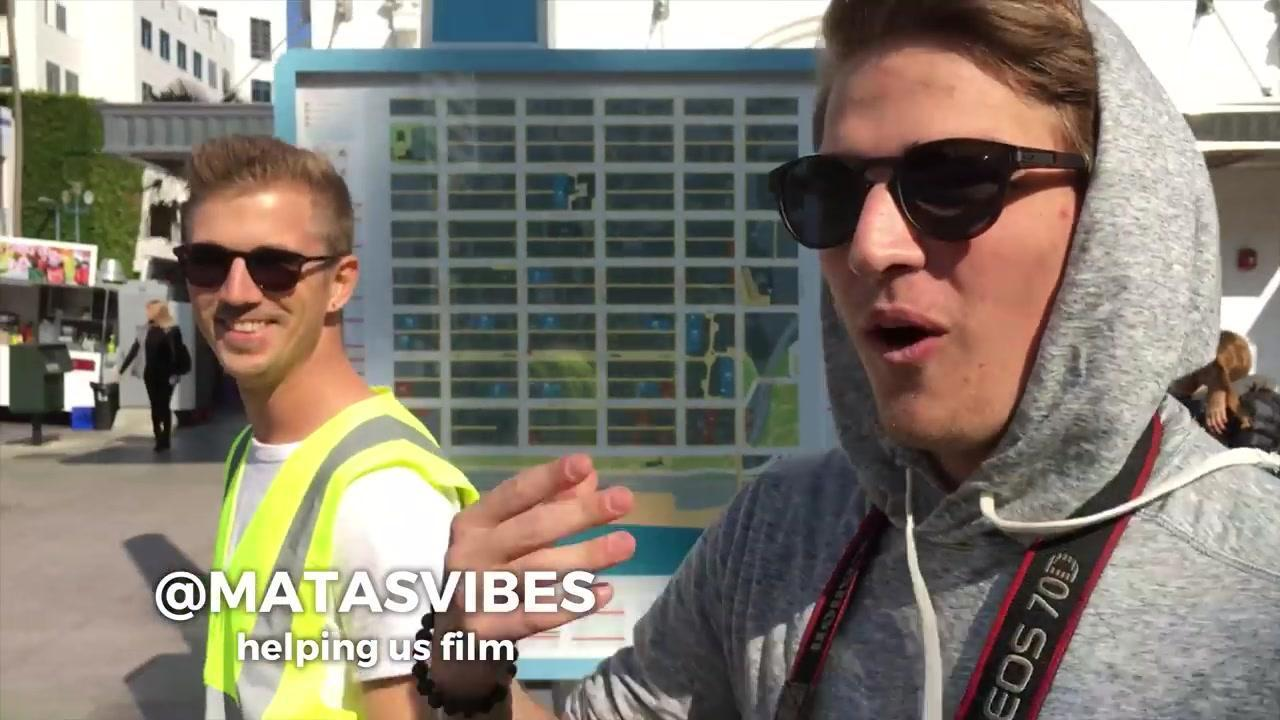vest: (202, 385, 479, 719)
